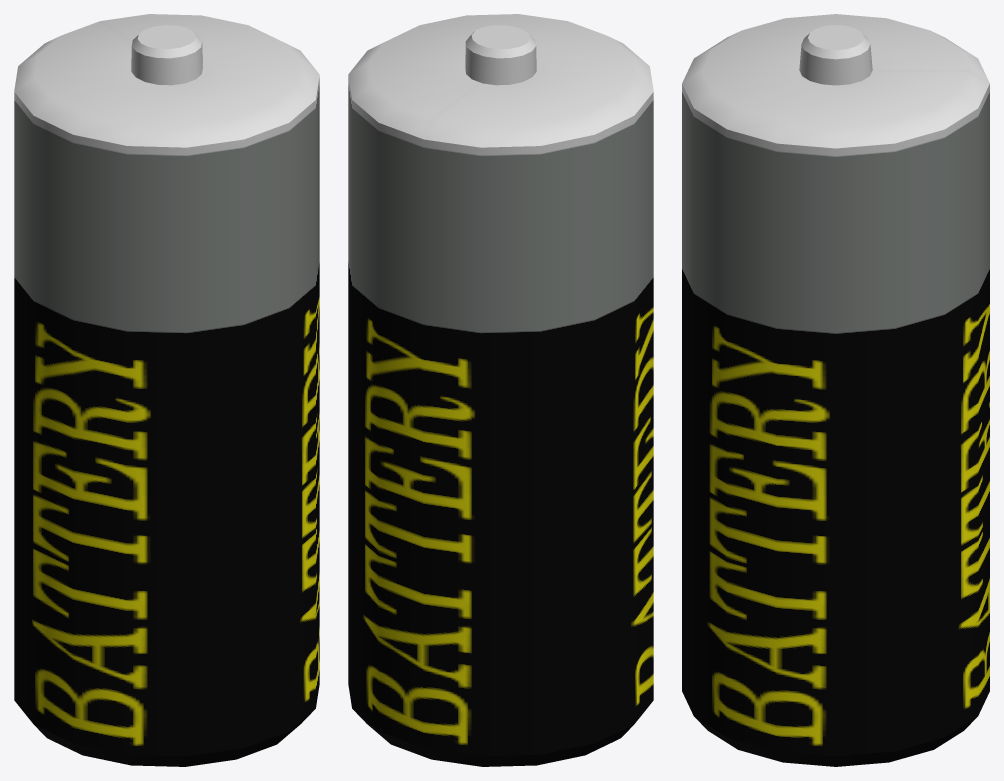
File: battery.fbx
3 renders of one model, left to right at view 1: azimuth 30°, elevation 25°; view 2: azimuth 150°, elevation 25°; view 3: azimuth 270°, elevation 25°, orthographic.
Parts seen in each view (by area): view 1: battery:pCylinder1; view 2: battery:pCylinder1; view 3: battery:pCylinder1.
Part boxes in pixels (x1,y1,x2,y2): battery:pCylinder1: (14, 14, 319, 766); battery:pCylinder1: (348, 14, 653, 766); battery:pCylinder1: (682, 14, 989, 766).
Size of the model in its own units: 1.04 by 2.5 by 1.04.
